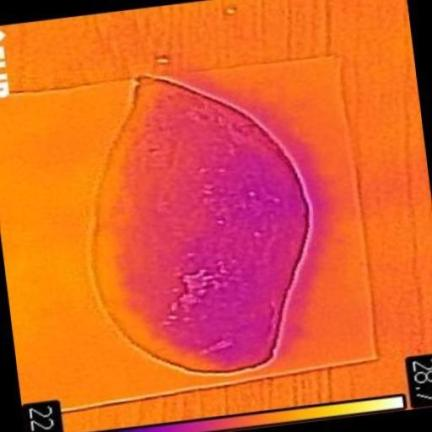mango: (96, 77, 308, 370)
